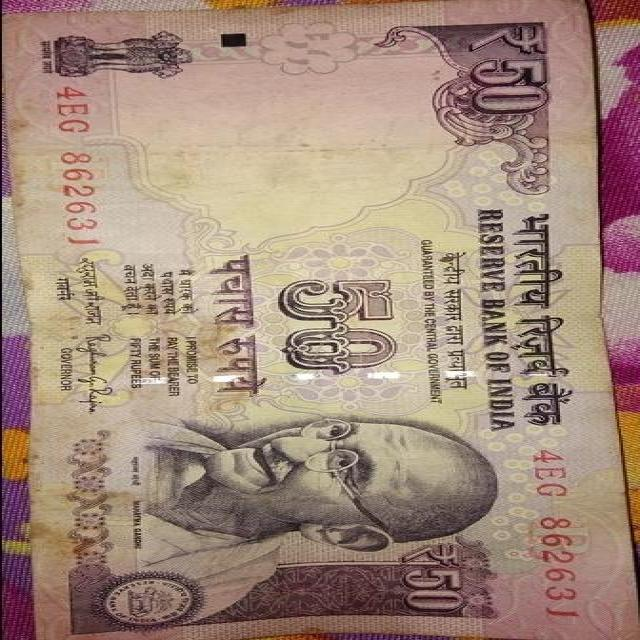50IndianRupees: (13, 10, 632, 640)
